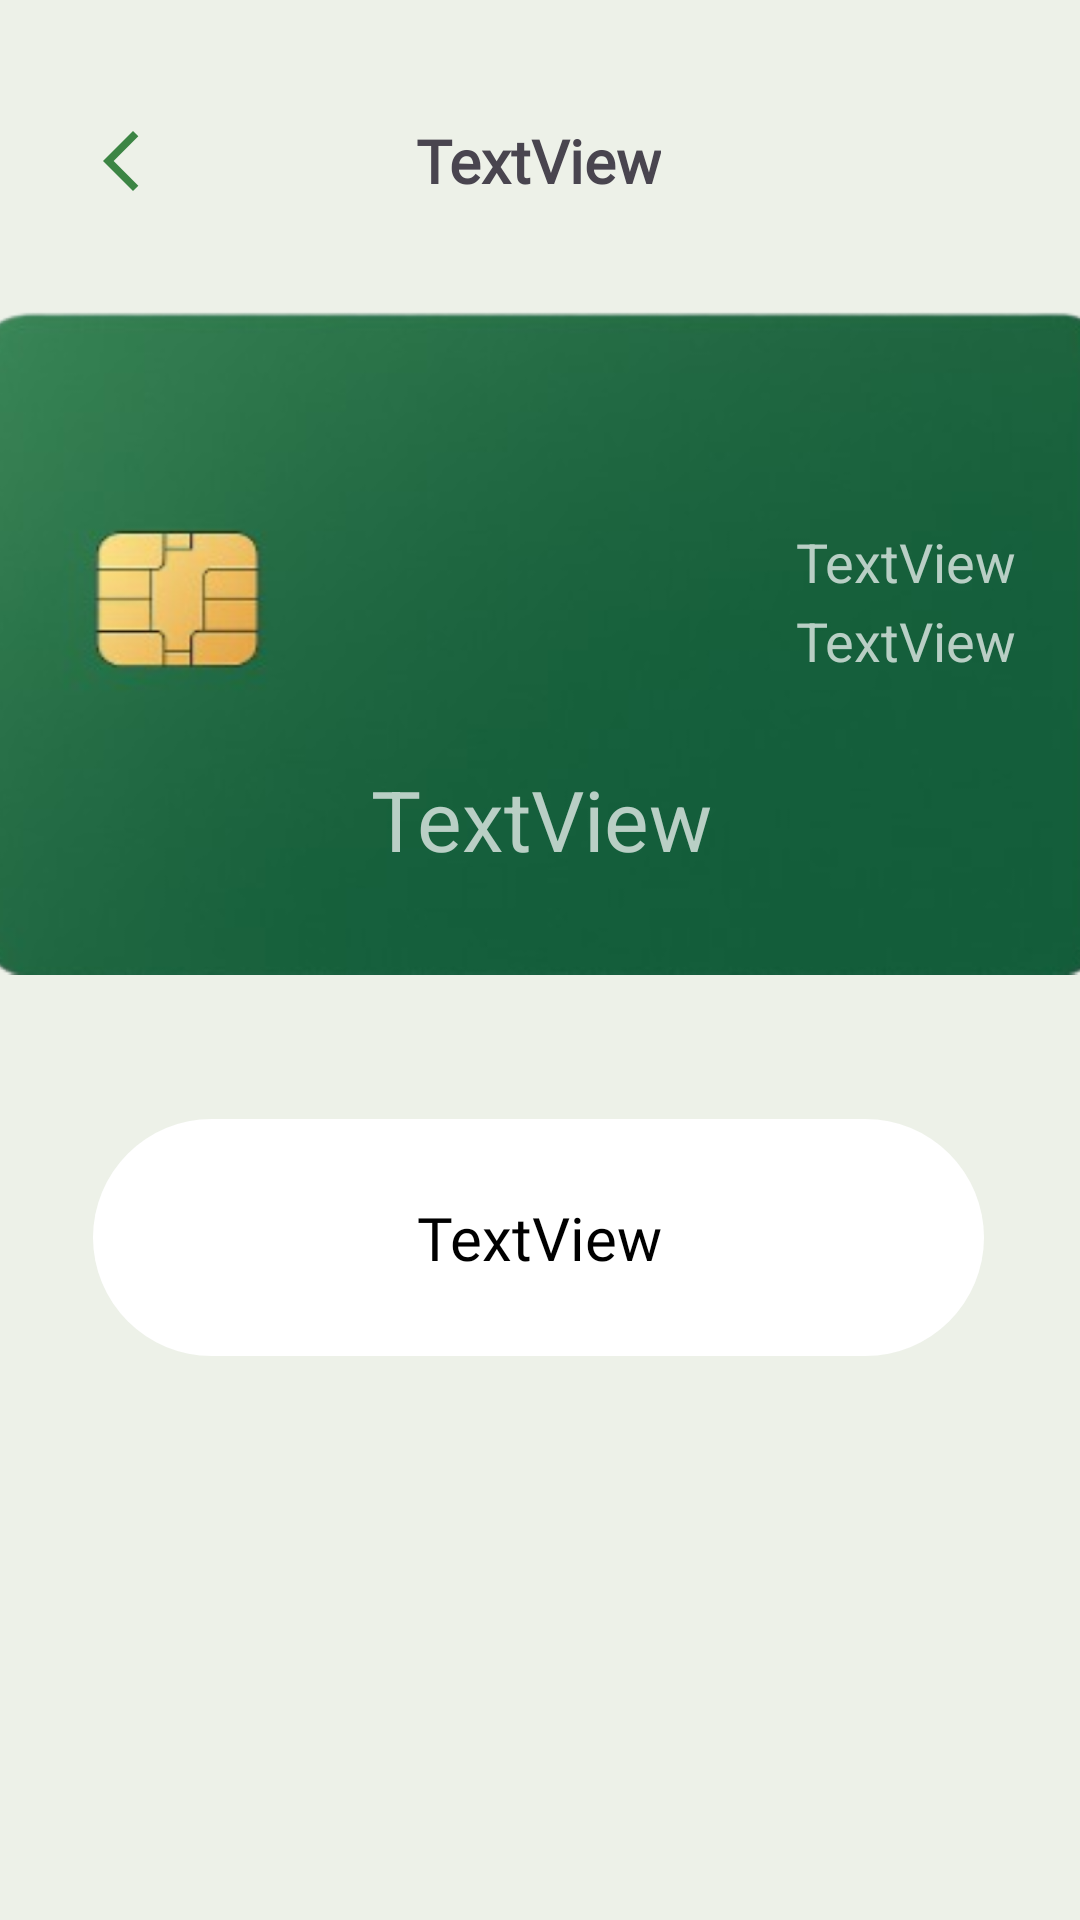

Icons on this 1080px x 1920px Android screen, each with the point to tap as (x=x, y=y):
flecha atras: (x=120, y=161)
